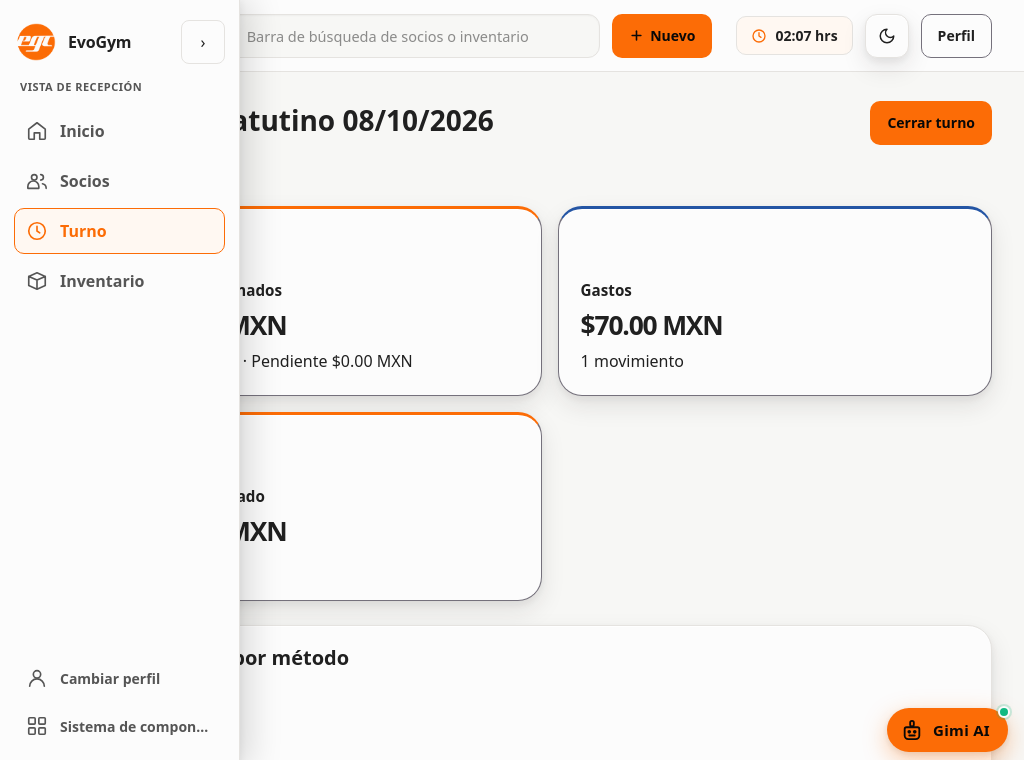
Test: operational demo screens › opens the native dialog and exposes an expandable expected-cash breakdown
Click the button "Cerrar turno".
click(931, 123)  # box [870,101,992,145]
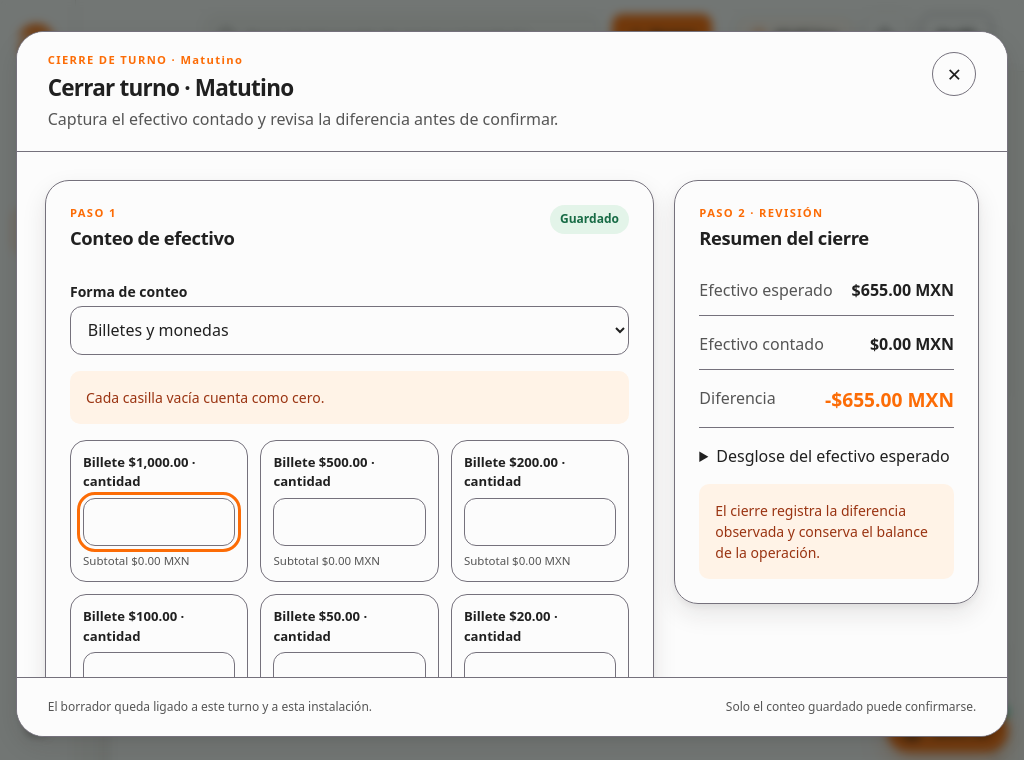
Result: the dialog "Cerrar turno · Matutino" is shown
Result: the heading "Desglose del efectivo esperado" is shown at [699,444,954,468]
